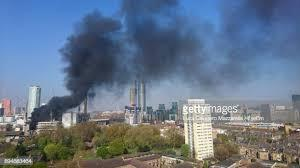smoke: (68, 41, 110, 83), (28, 97, 71, 117)
